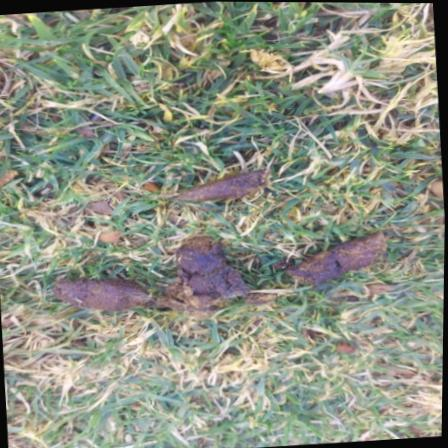dog-poop: (42, 246, 243, 332), (282, 234, 393, 290), (169, 173, 271, 214)
